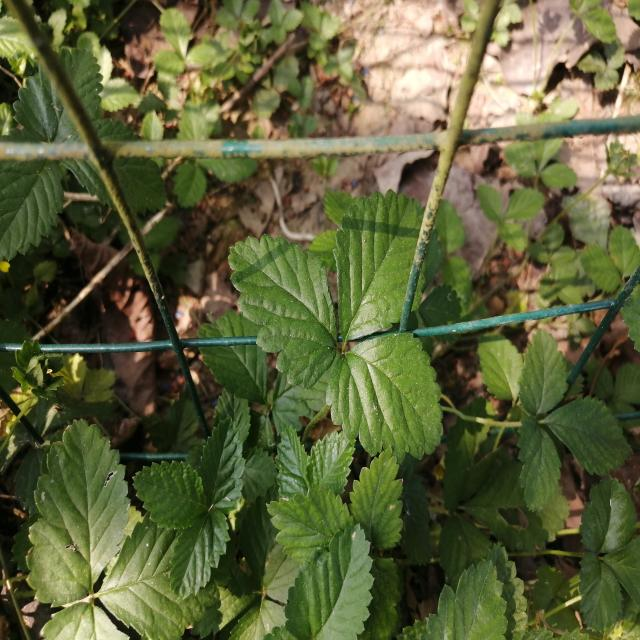Mock_strawberry: (224, 183, 456, 451), (143, 408, 414, 628)
